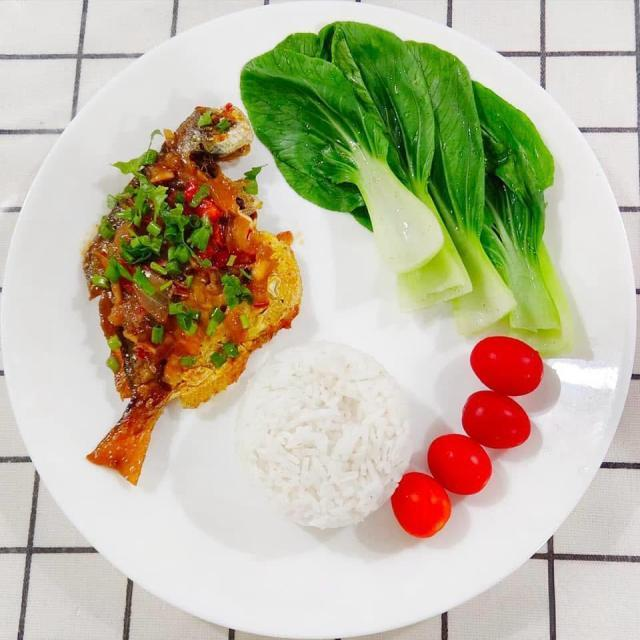Fish: (82, 106, 309, 488)
Plate: (547, 10, 639, 120)
Rice: (240, 347, 415, 532)
Vegetables: (236, 27, 563, 538)
